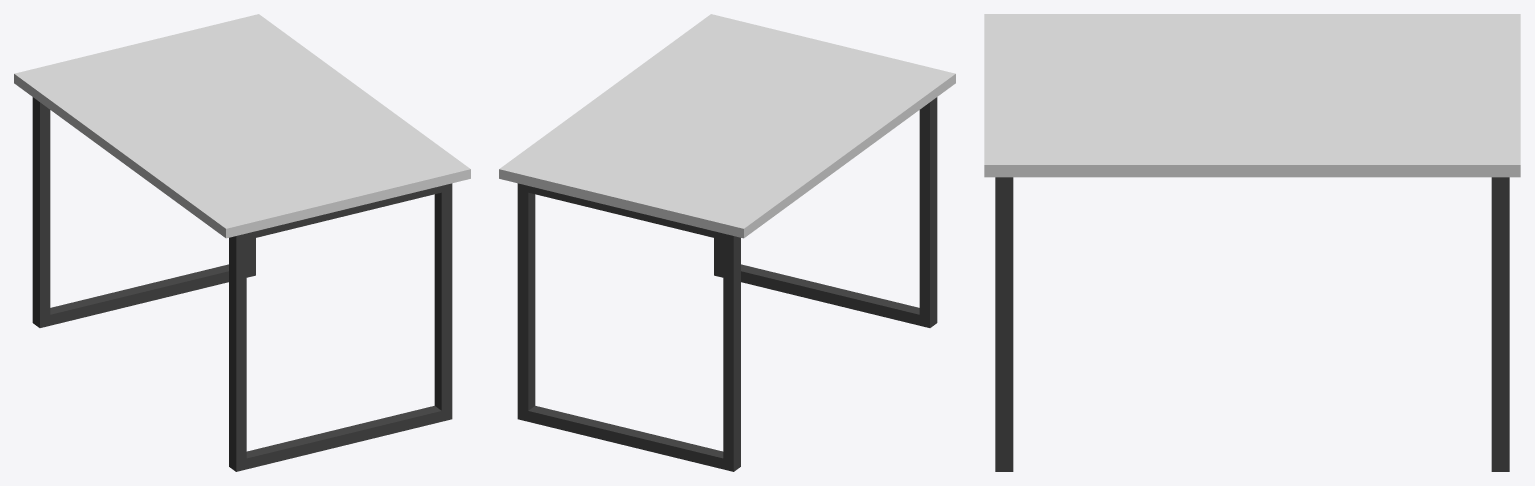
Rendered from Table_03_C1.fbx.
The picture shows the model from 3 angles, left to right: view 1: azimuth 30°, elevation 25°; view 2: azimuth 150°, elevation 25°; view 3: azimuth 270°, elevation 25°; orthographic projection. The views are drawn at different scales.
Parts seen in each view (by area): view 1: Table_03_C1; view 2: Table_03_C1; view 3: Table_03_C1.
Boxes of the visible parts, <box> form: Table_03_C1: <box>14,14,470,471</box>; Table_03_C1: <box>499,14,955,471</box>; Table_03_C1: <box>984,14,1520,471</box>.
Bounding box in the file's own units: 80 × 78 × 120.
